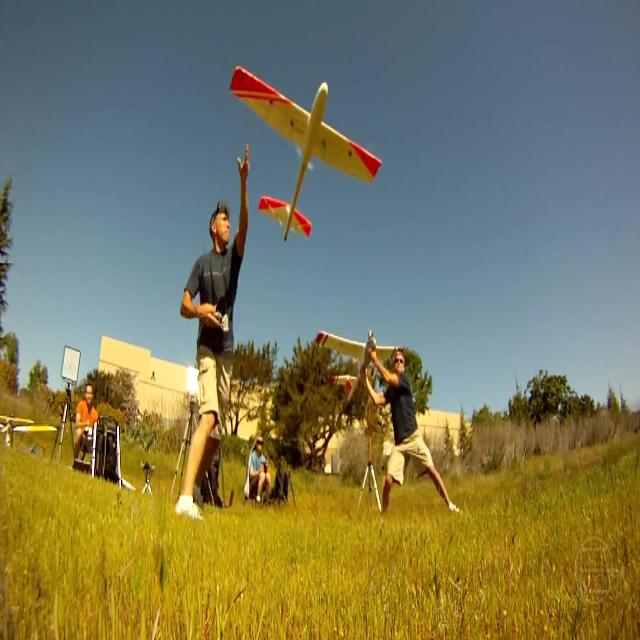iha: (228, 63, 384, 244), (347, 351, 373, 370)
